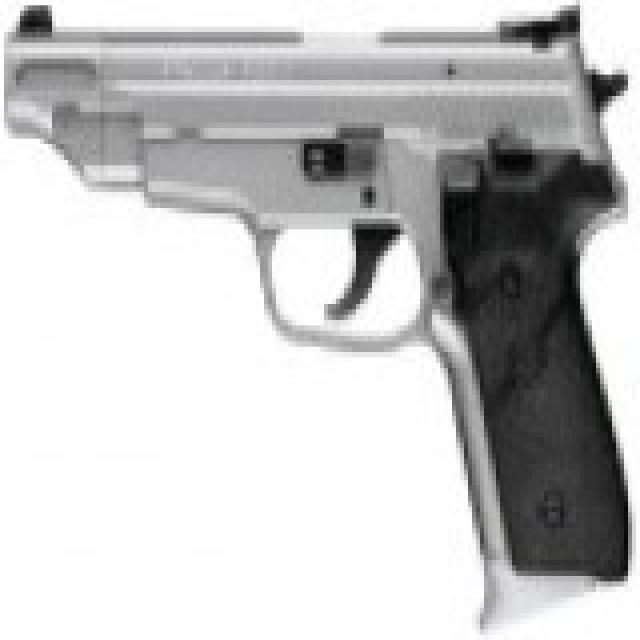gun: (8, 0, 628, 619)
